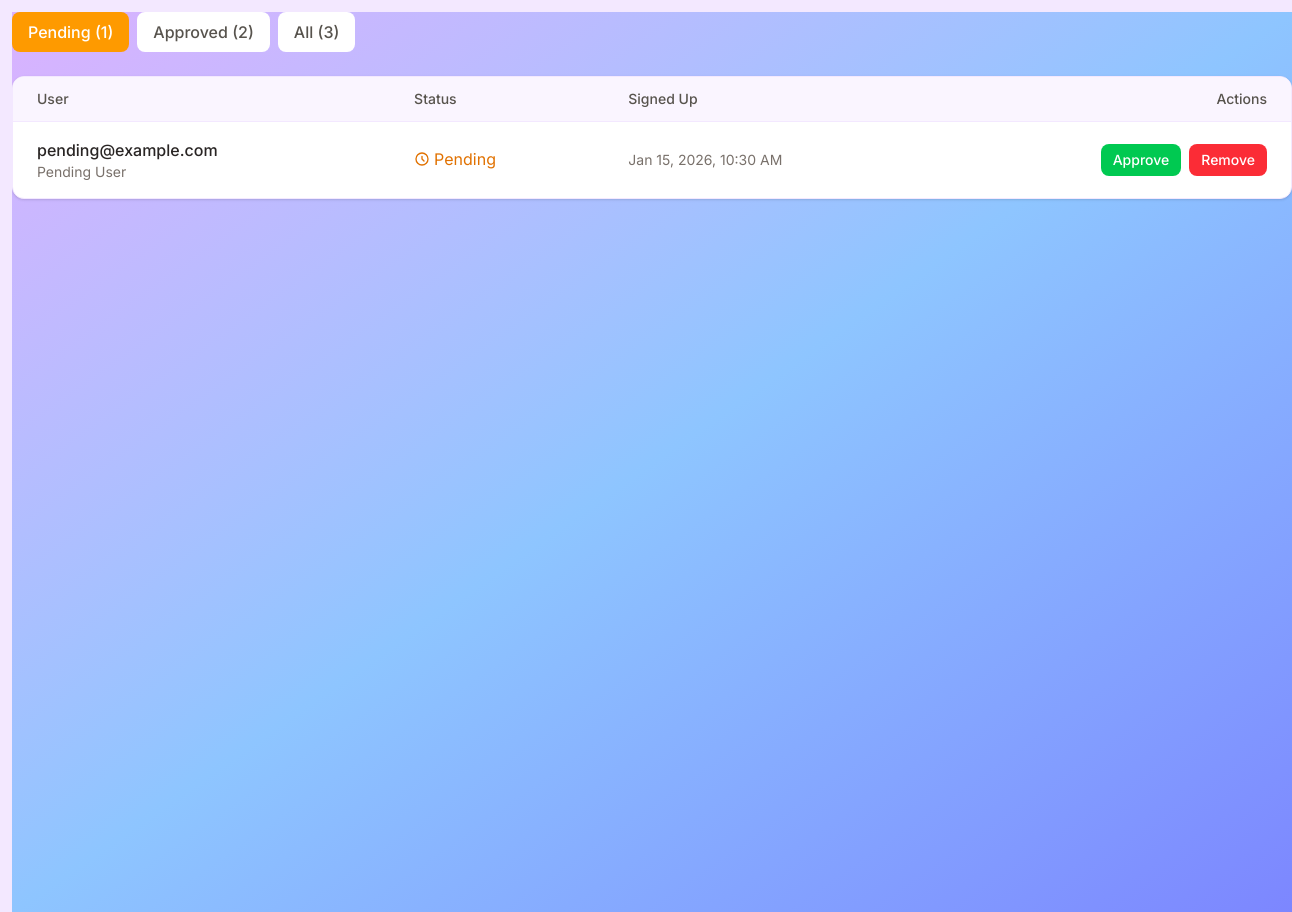
Test: AdminUserList › rendering › renders approved status for approved users
Switch to Approved tab
Click the button "Approved (2)" at (204, 32), box [137,12,270,52]
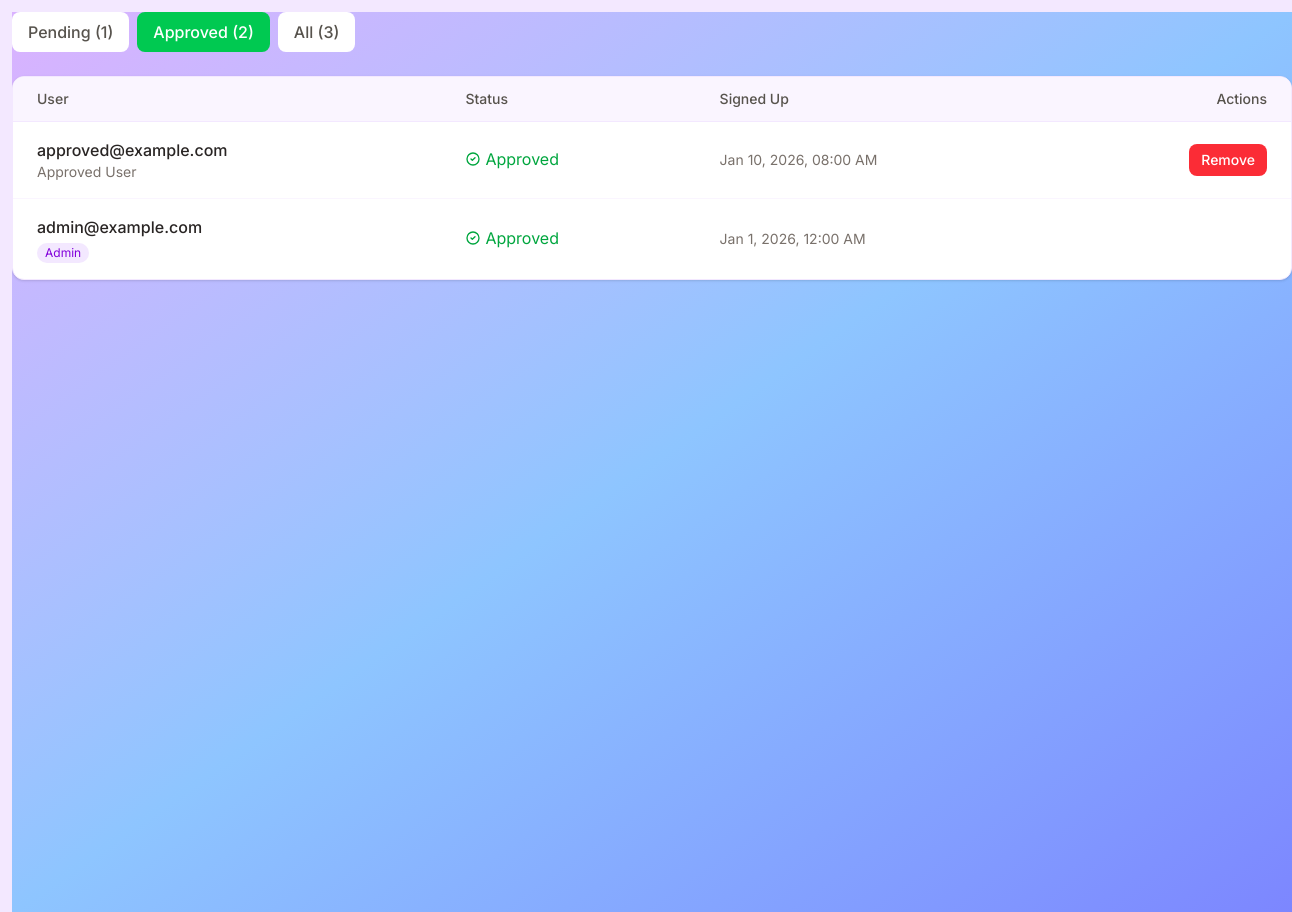
Check: the text "Approved" in the row of "approved@example.com" is shown, box [486,149,559,169]
